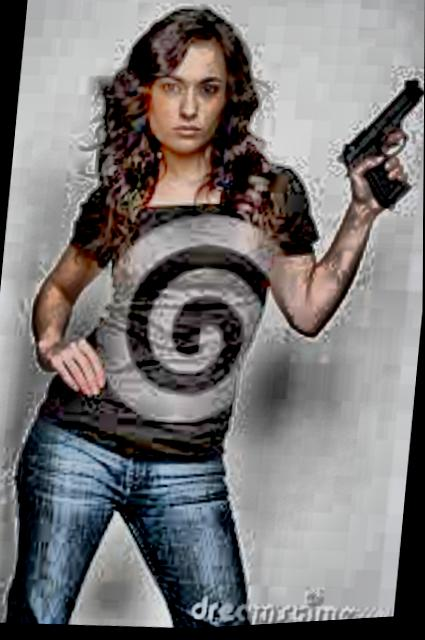pistol: (337, 70, 424, 212)
